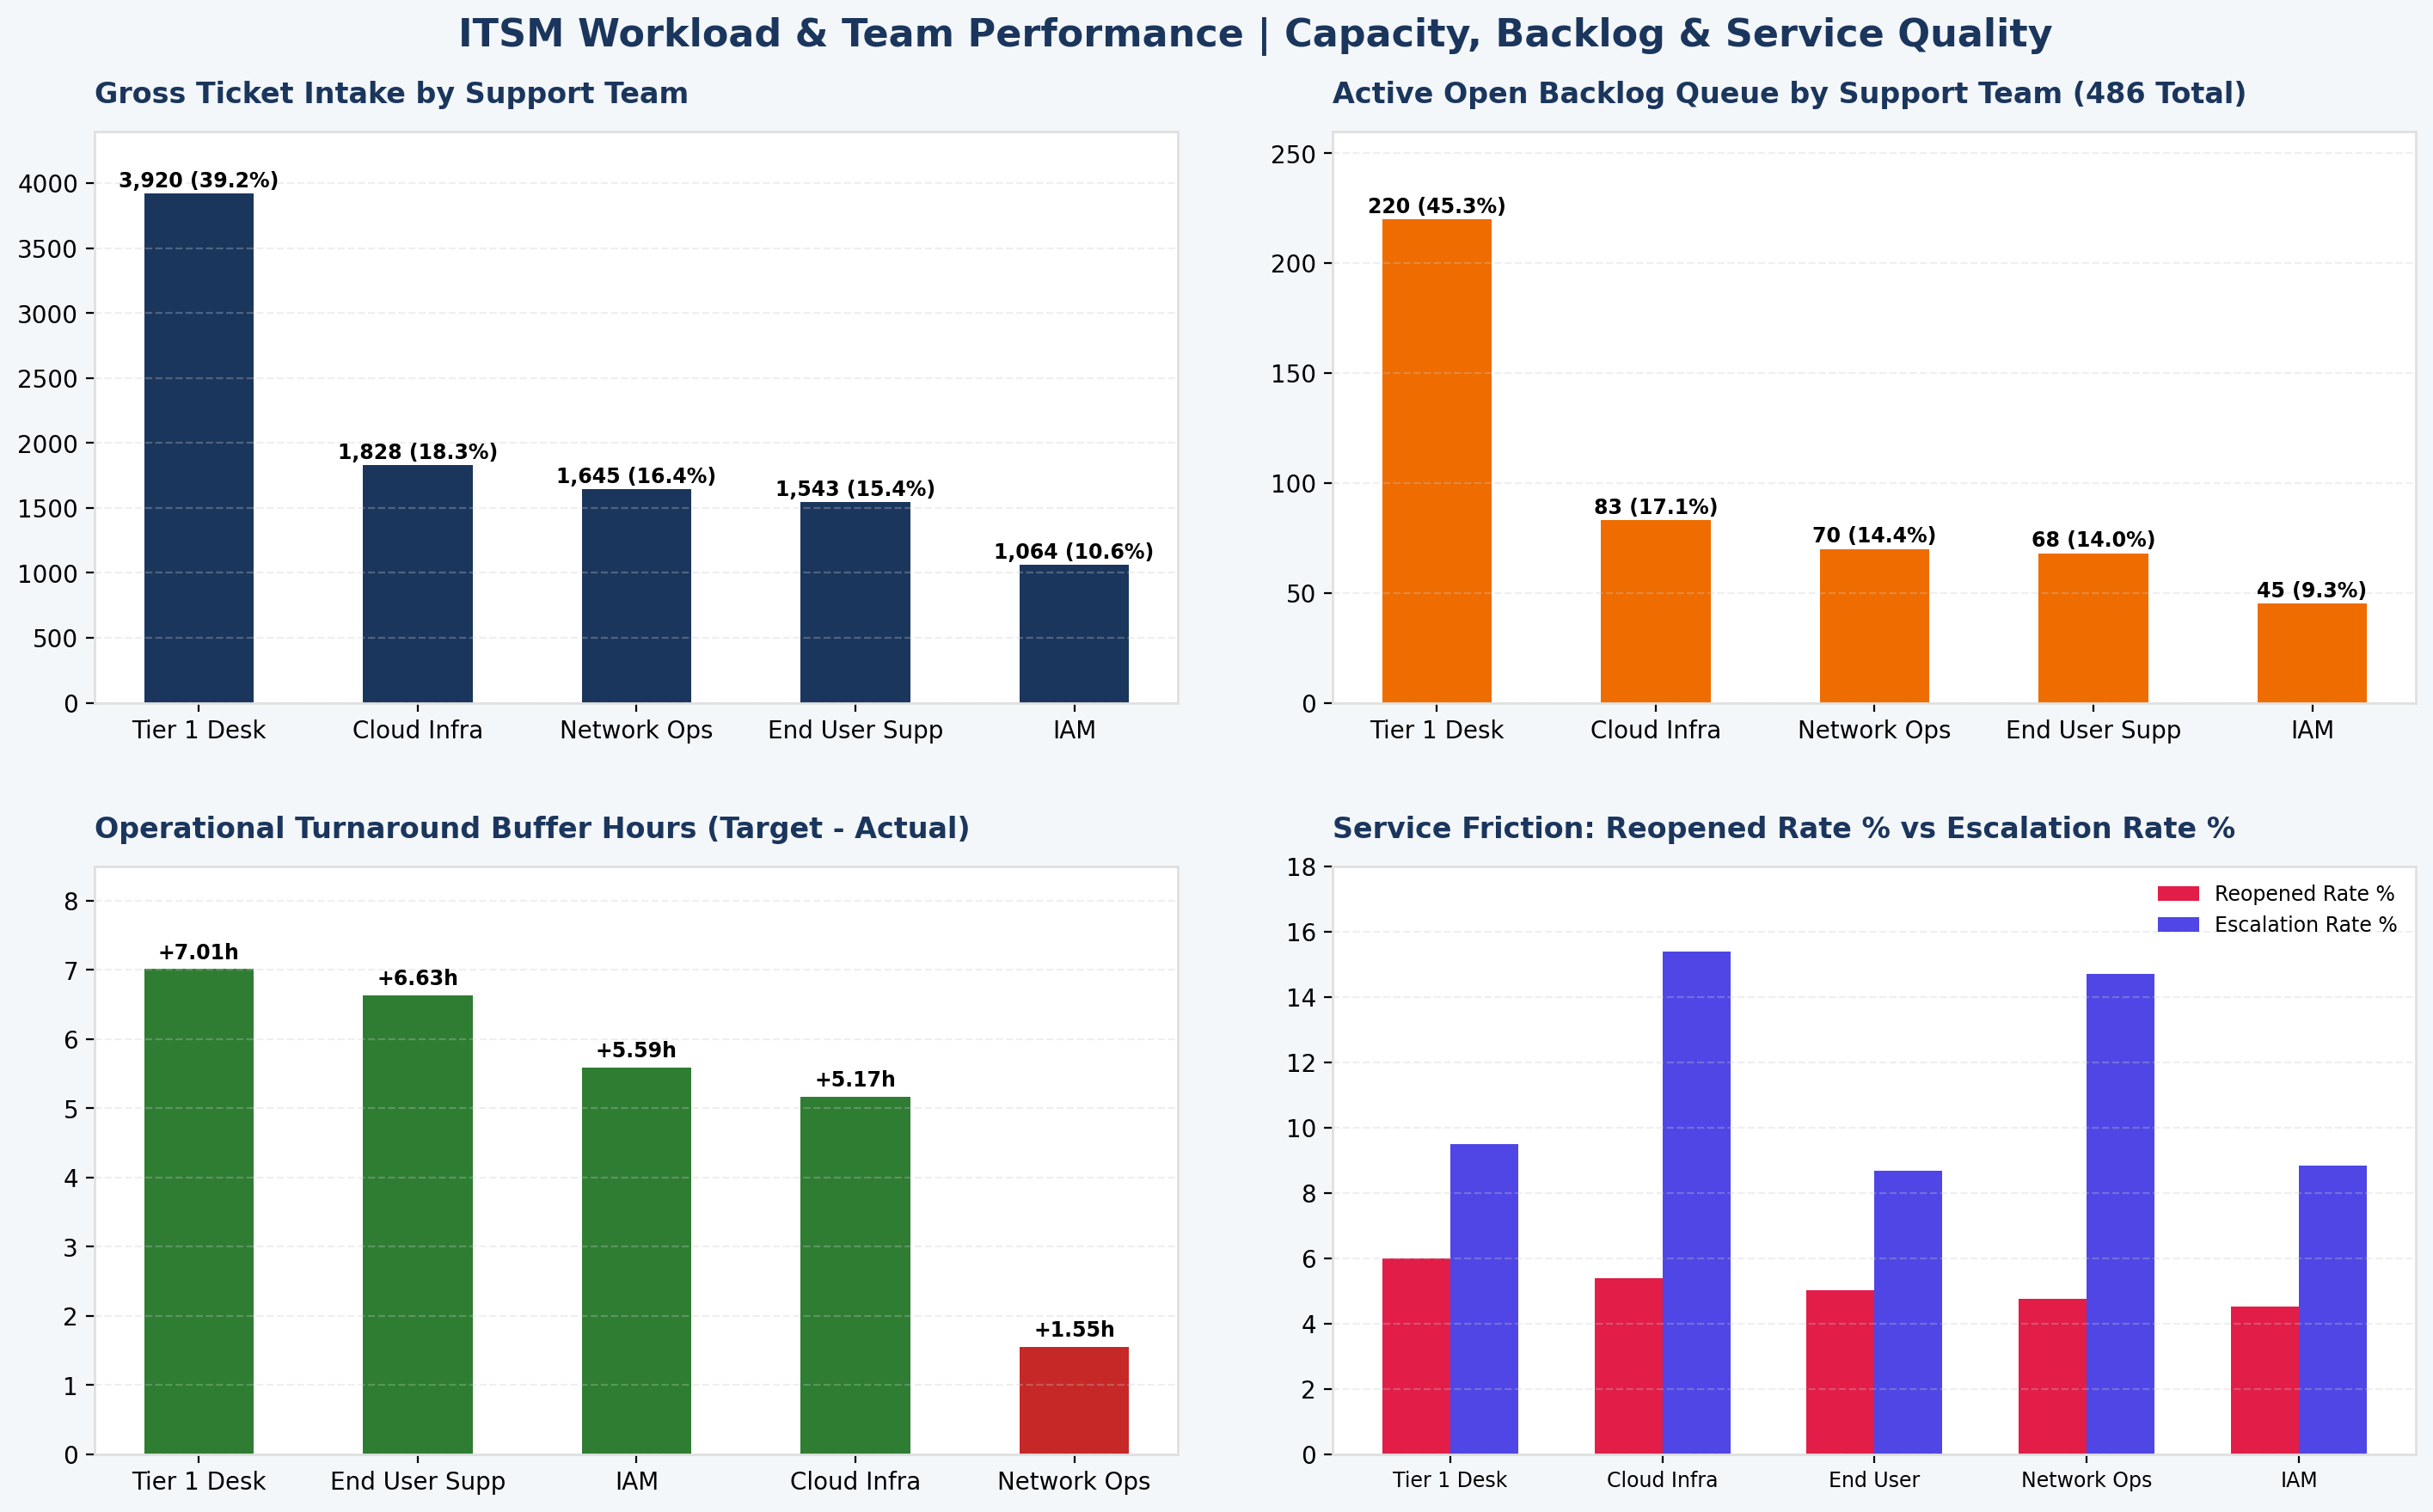

Layout of this report page (visuals, bound fields, positions):
{"tool":"tableau","page":{"name":"3_Workload_and_Team_Performance","canvas":[1300,850],"ordinal":2},"visuals":[{"type":"worksheet","title":"Team_Volume_Distribution","mark":"Bar","box":[0,0,650,425]},{"type":"worksheet","title":"Team_Open_Backlog","mark":"Bar","box":[650,0,650,425]},{"type":"worksheet","title":"Team_Avg_Turnaround","mark":"Bar","box":[0,425,650,425]},{"type":"worksheet","title":"Team_Reopens_and_Escalations","mark":"Bar","box":[650,425,650,425]}]}

Visuals, with their boxes on the page's 1300x850 design canvas (x1, y1, x2, y2). These are canvas units, not pixel positions in the 2433x1512 screenshot, which may show the page scaled, cropped or inside an application window:
"Team_Volume_Distribution" worksheet (Bar marks): 0 0 650 425
"Team_Open_Backlog" worksheet (Bar marks): 650 0 1300 425
"Team_Avg_Turnaround" worksheet (Bar marks): 0 425 650 850
"Team_Reopens_and_Escalations" worksheet (Bar marks): 650 425 1300 850
